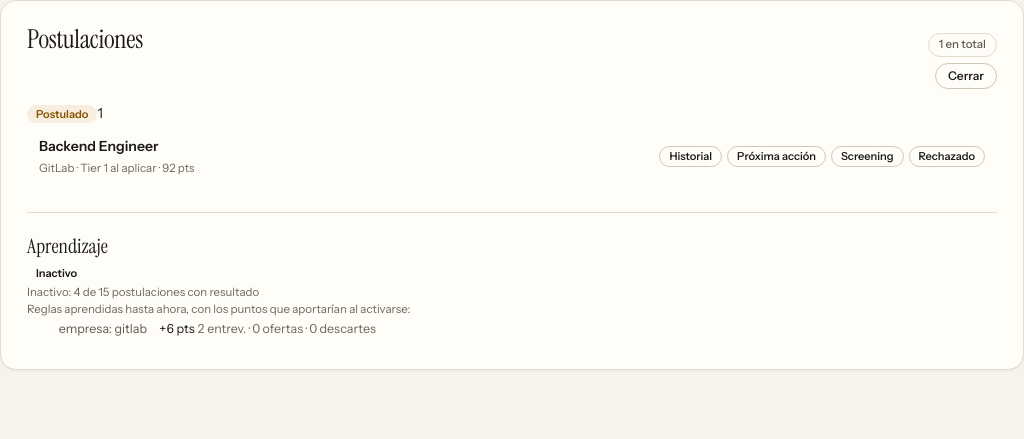
Test: Pipeline — aprendizaje e historial › el historial se pide recién al hacer clic y muestra los estados
This screenshot has width=1024, height=439.
Click the button "Historial".
click(691, 157)  # box [659,146,722,167]
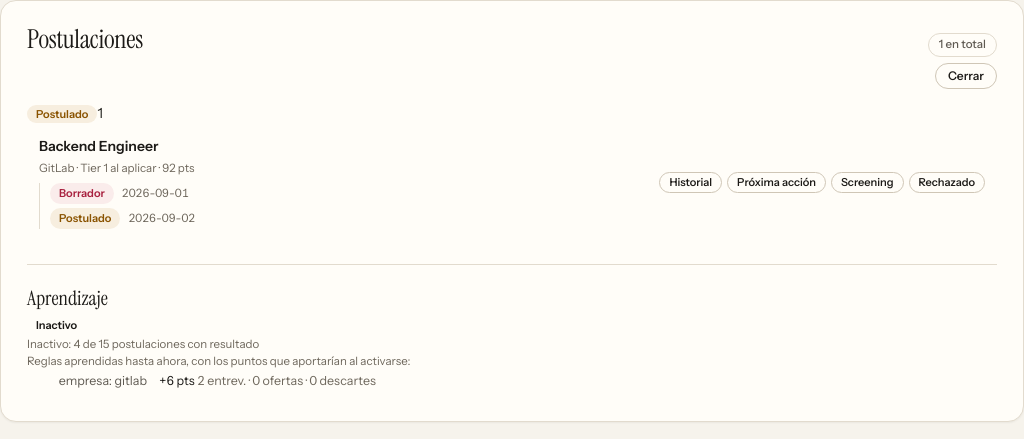
Now the text "2026-09-02" is shown, box [128,210,195,228]
Now the text "2026-09-01" is shown, box [122,185,189,203]
